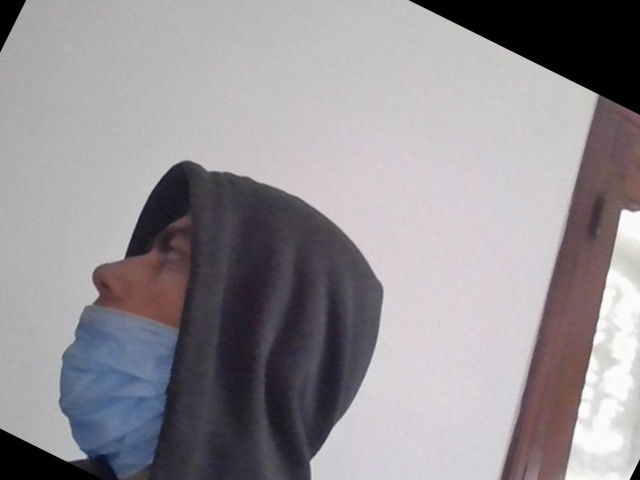mask_weared_incorrect: (50, 185, 240, 466)
